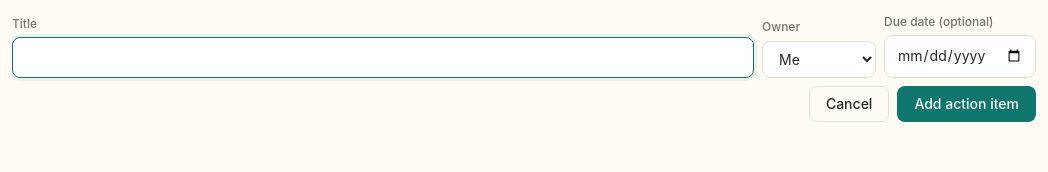
it: ActionItemInline › shows an error and stays open when the member no longer exists
Type "Orphan" into the field labelled "Title" at (383, 57), box [12,37,754,78]
Then press Enter
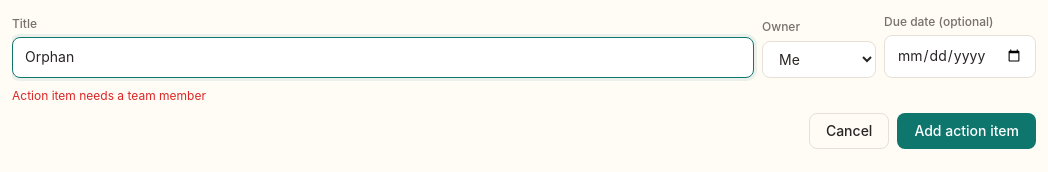
expect the message reads "Action item needs a team member": met, box [12,88,206,103]
